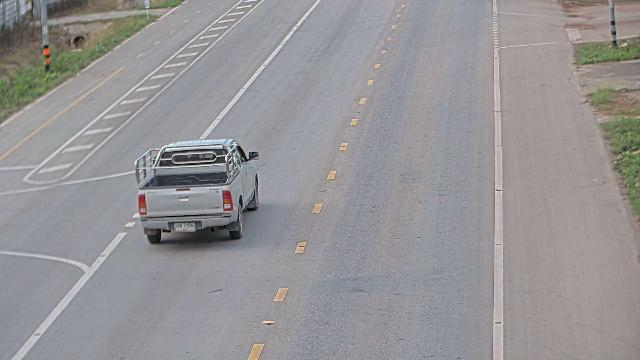pickup-truck: (133, 137, 260, 244)
